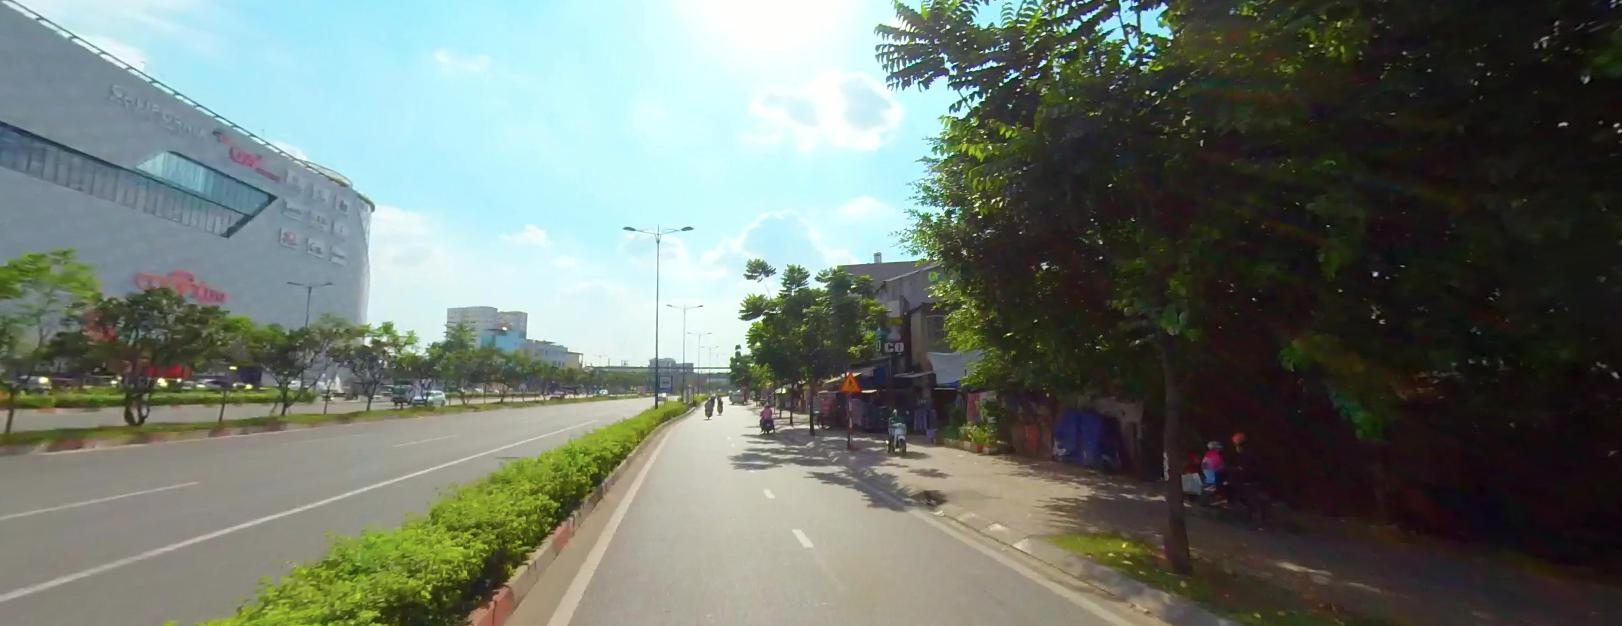Nguy hiem: (837, 370, 862, 391)
